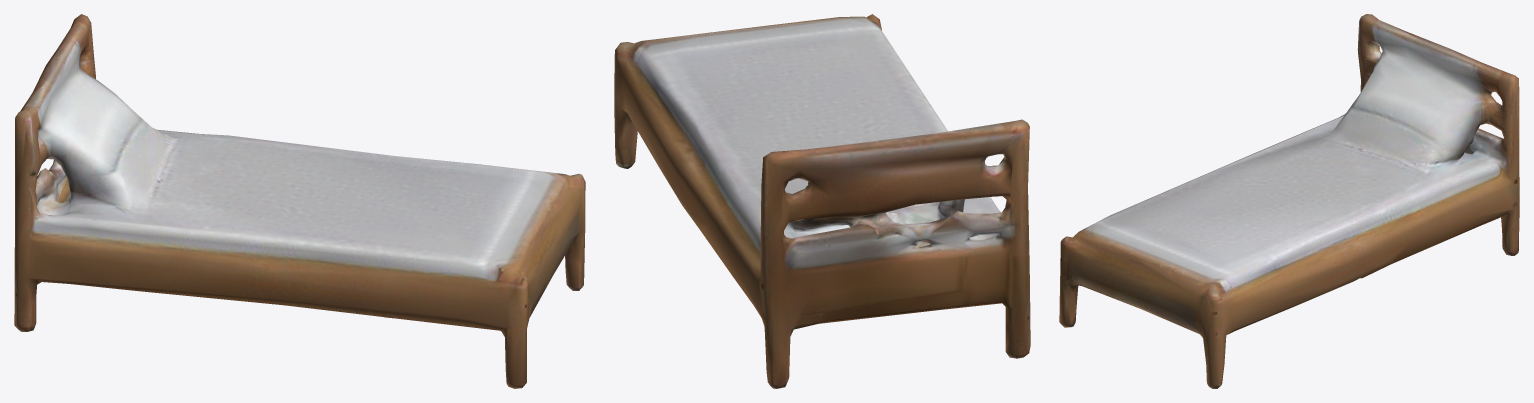
File: bed.glb
3 renders of one model, left to right at view 1: azimuth 30°, elevation 25°; view 2: azimuth 150°, elevation 25°; view 3: azimuth 270°, elevation 25°, orthographic. The views are drawn at different scales.
Visible parts, largest first — view 1: world; view 2: world; view 3: world.
Part boxes in pixels (x1,y1,x2,y2): world: (14,14,585,388); world: (614,14,1030,388); world: (1059,14,1519,388).
Size of the model in its own units: 1.56 by 0.6994 by 1.56.
Materials: 1 (1 with a texture image).
